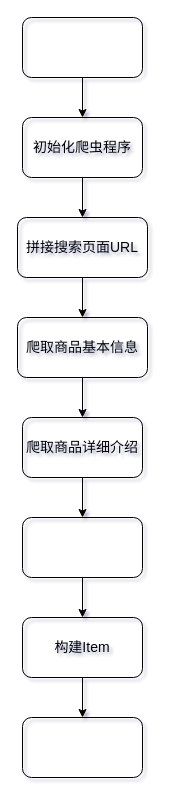
This 171x801 diagram has some shape labels left out. Here are the shapes that lost their labels. From the top down, the box of each, then its label:
(22, 16, 142, 78): 运行爬虫程序
(22, 516, 142, 578): 爬取商品评论
(22, 716, 142, 778): 传递Pipelines
